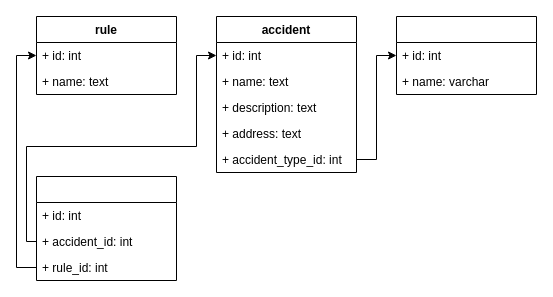
Image size: 553x297. Some labels were removed from this diagram. The box of each missing label's shape, as (x1, y1, x2, y2) in pixels:
accident_rules: (36, 176, 176, 280)
accident_type: (396, 16, 536, 94)
